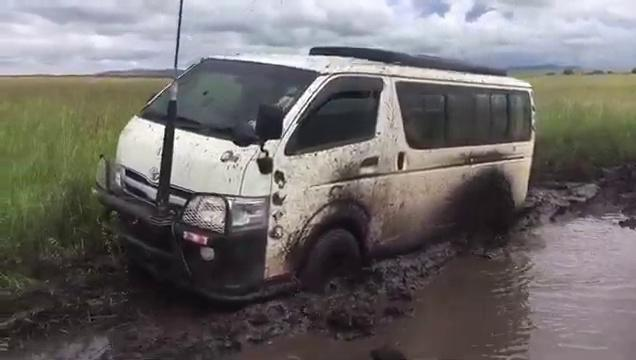Van: (95, 41, 547, 284)
